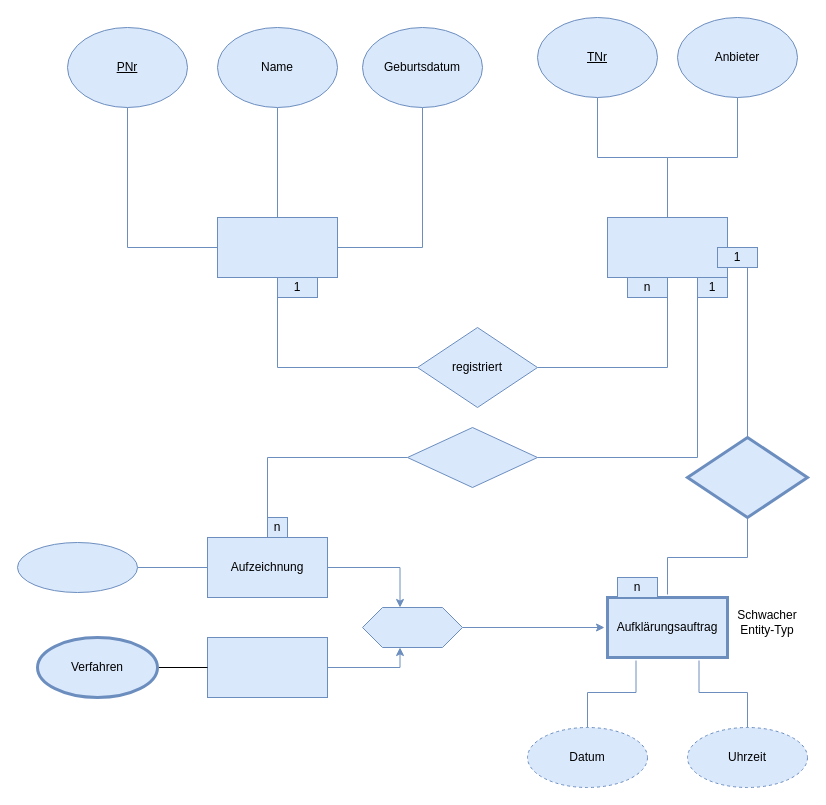
The diagram is 826 pixels wide and 805 high, and some of its shapes have lost their labels. Here are the shapes that lost their labels. From the top down, the box of each, then its label:
(216, 216, 338, 278): Person
(606, 216, 728, 278): SIM-Karte
(406, 426, 538, 488): Anruf
(686, 436, 808, 518): ist Ziel von
(16, 542, 138, 592): Dateiname
(362, 606, 462, 648): ist ein
(206, 636, 328, 698): Ortungen
